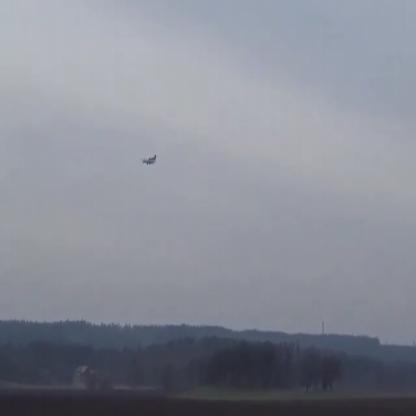CIV_Plane: (141, 154, 157, 166)
